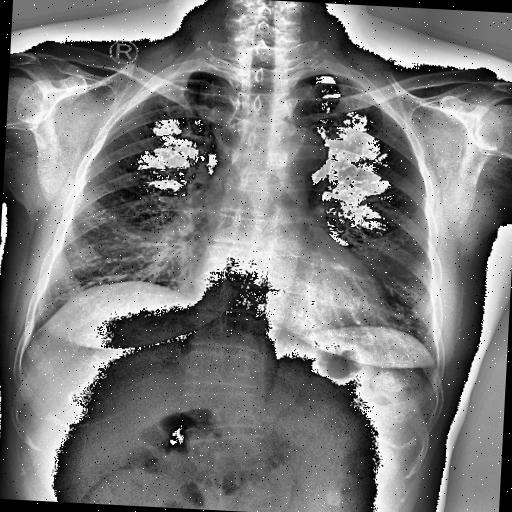0- Aortic enlargement: (232, 114, 336, 182)
2- Calcification: (306, 136, 334, 182), (300, 135, 330, 175)
5- ILD: (368, 276, 448, 344)
